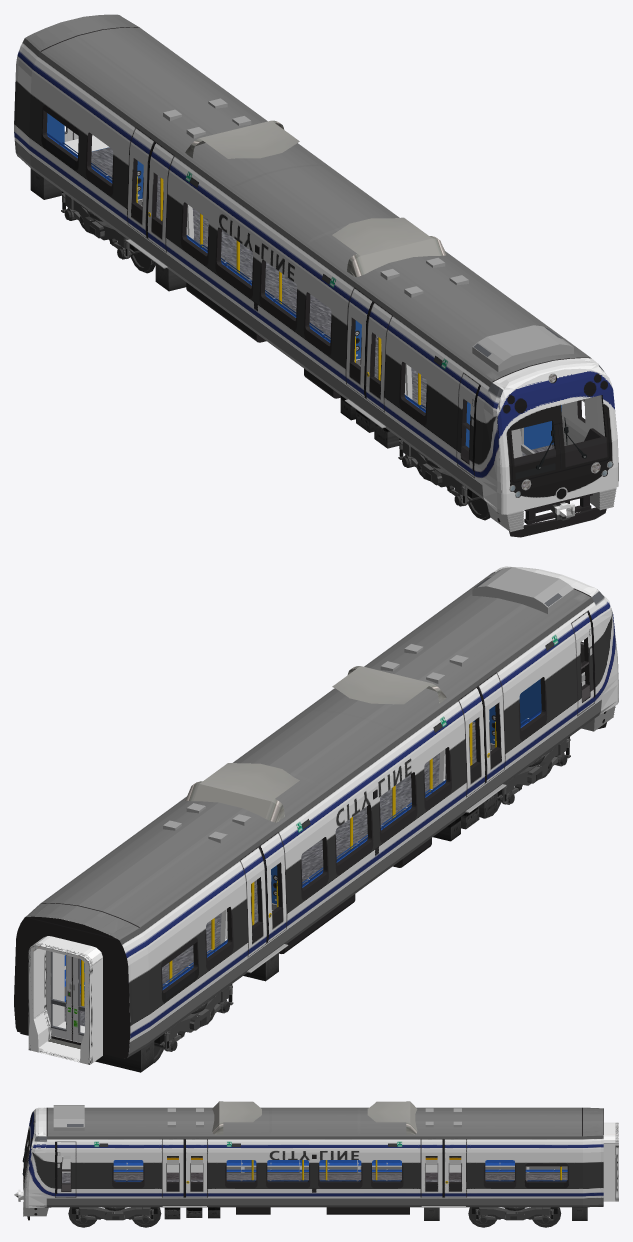
Rendered from module_city_front.obj.
3 renders of one model, top to bottom at view 1: azimuth 30°, elevation 25°; view 2: azimuth 150°, elevation 25°; view 3: azimuth 270°, elevation 25°, orthographic. The views are drawn at different scales.
Visible parts, largest first — view 1: side, jibung, front, aircon, floor, dt71, door_RB, door_RF, habu, wiper, inside, coupler (+5 smaller); view 2: side, jibung, aircon, mak, backout, floor, door_RB, door_RF, habu, dt71, interiors, bong (+4 smaller); view 3: side, jibung, aircon, oscarchair, dt71, floor, door_LF, door_LB, habu, mak, heater, front (+5 smaller).
Part boxes in pixels (x1,y1,x2,y2): side: (14,16,618,513); jibung: (25,14,604,397); front: (496,368,618,514); aircon: (163,98,573,371); floor: (91,147,554,456); dt71: (61,191,490,520); door_RB: (128,144,367,411); door_RF: (146,158,386,425); habu: (30,168,503,514); wiper: (509,417,607,537); inside: (561,396,597,445); coupler: (524,493,592,524); side: (14,567,618,1058); jibung: (25,566,601,940); aircon: (163,567,573,843); mak: (28,936,102,1064); backout: (18,916,126,1057); floor: (64,721,476,1026); door_RB: (246,702,486,969); door_RF: (265,688,504,956); habu: (20,792,497,1072); dt71: (154,737,570,1062); interiors: (46,644,585,1042); bong: (81,721,496,1006); side: (25,1107,603,1208); jibung: (32,1107,603,1140); aircon: (53,1101,461,1134); oscarchair: (113,1160,567,1181); dt71: (68,1207,561,1227); floor: (62,1172,567,1183); door_LF: (162,1149,443,1205); door_LB: (184,1149,465,1205); habu: (45,1206,602,1220); mak: (603,1122,618,1201); heater: (113,1163,567,1174); front: (23,1111,35,1207).
Size of the model in its own units: 2.88 by 3.97 by 20.41.
37 materials, 36 textured.
